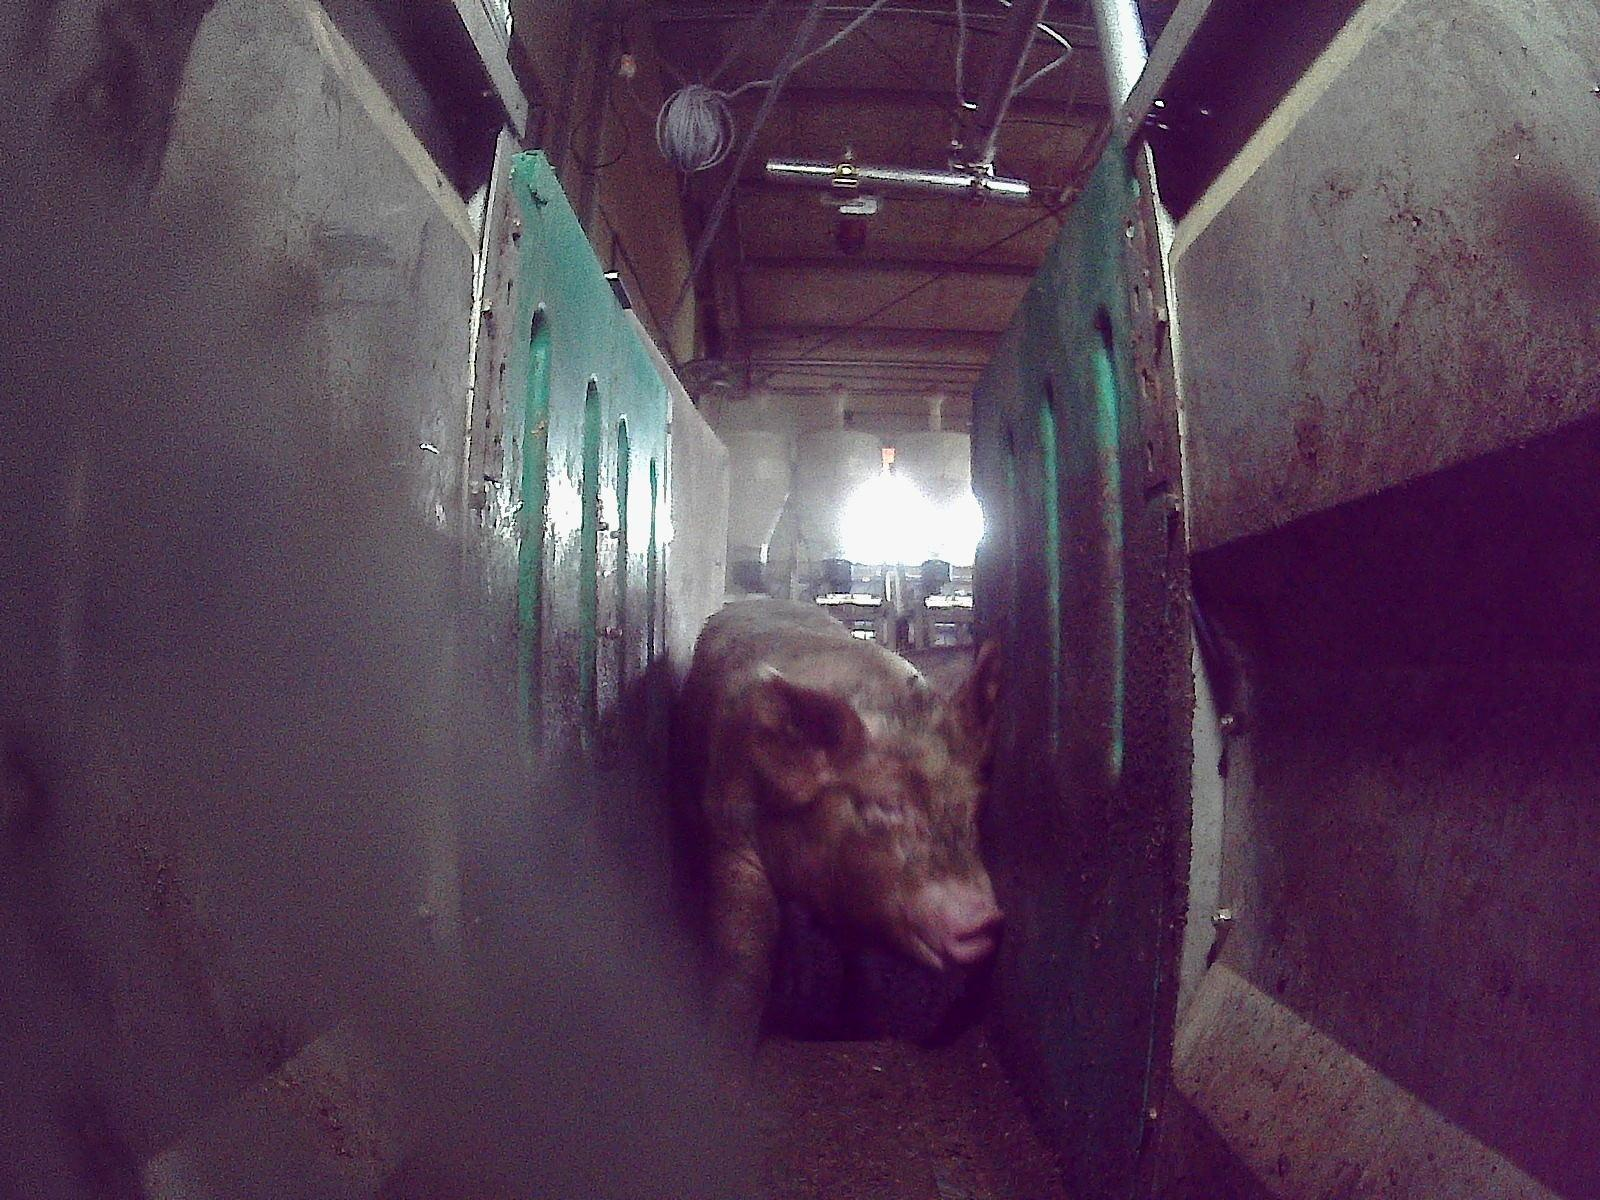Face: (791, 693, 999, 966)
